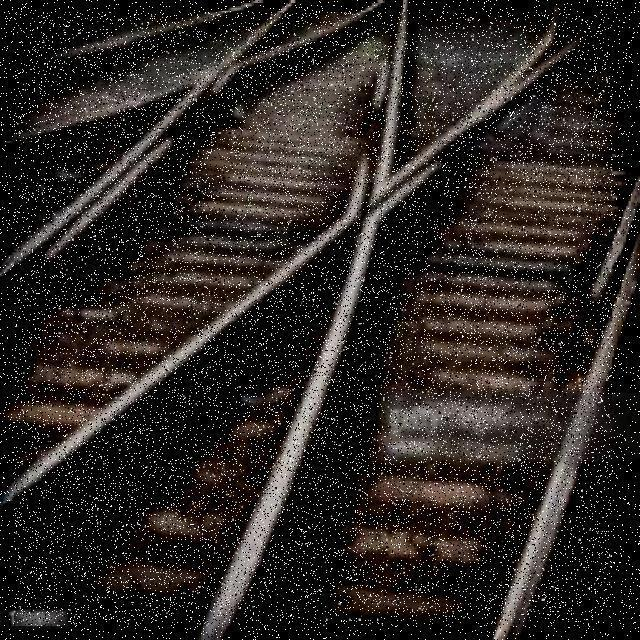rail: (15, 13, 613, 627)
